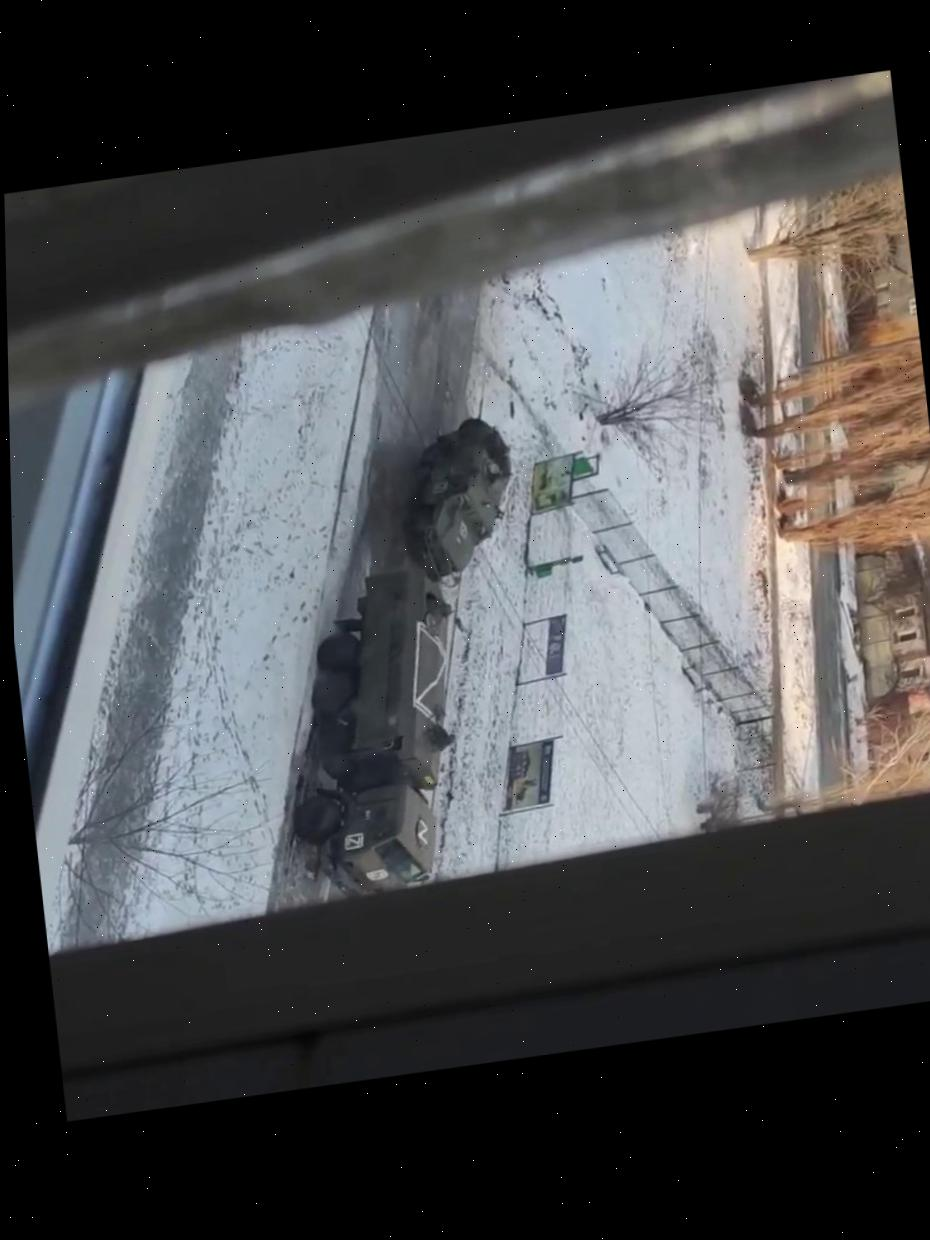armored_car: (391, 415, 522, 589)
truck: (267, 563, 483, 905)
